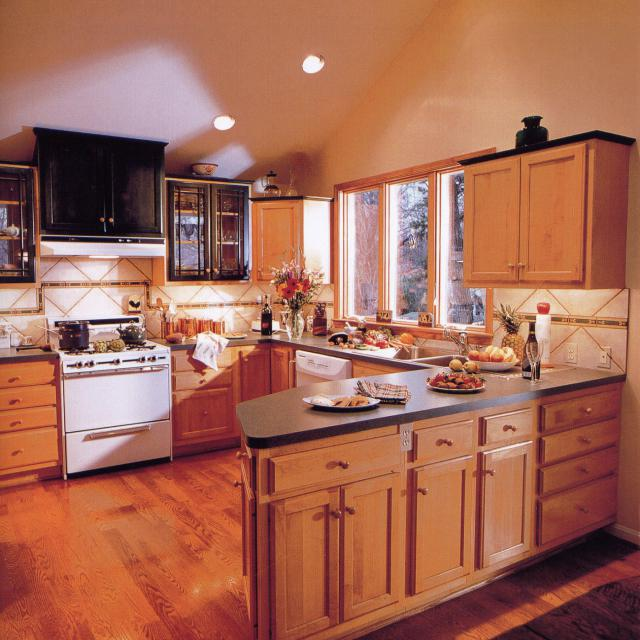2001: (331, 147, 494, 340)
cupboard crop: (459, 128, 632, 290), (32, 126, 166, 242), (269, 488, 342, 640), (164, 175, 255, 286), (414, 457, 473, 594), (483, 445, 531, 567)
dish with lobsters: (294, 348, 352, 384)
drawer handle: (269, 432, 403, 496), (539, 387, 622, 437), (413, 423, 473, 461), (480, 411, 530, 443)
oven cloth: (45, 314, 175, 478)
plate of food: (311, 391, 382, 410), (426, 373, 484, 393)
